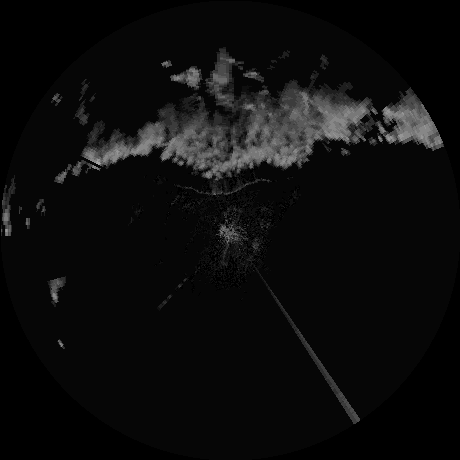frontgust: (184, 178, 277, 196)
